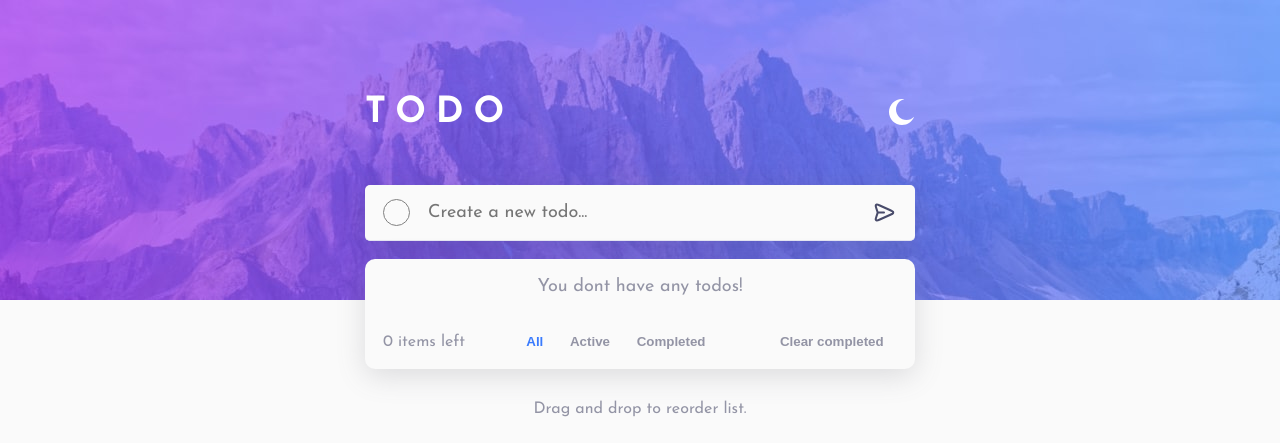
Test: Todo Actions › should add new ToDo by clicking button
This screenshot has width=1280, height=443.
Type "Write test in cypress" into the field with test id "todo-input" at (641, 213), box [428,185,854,240]
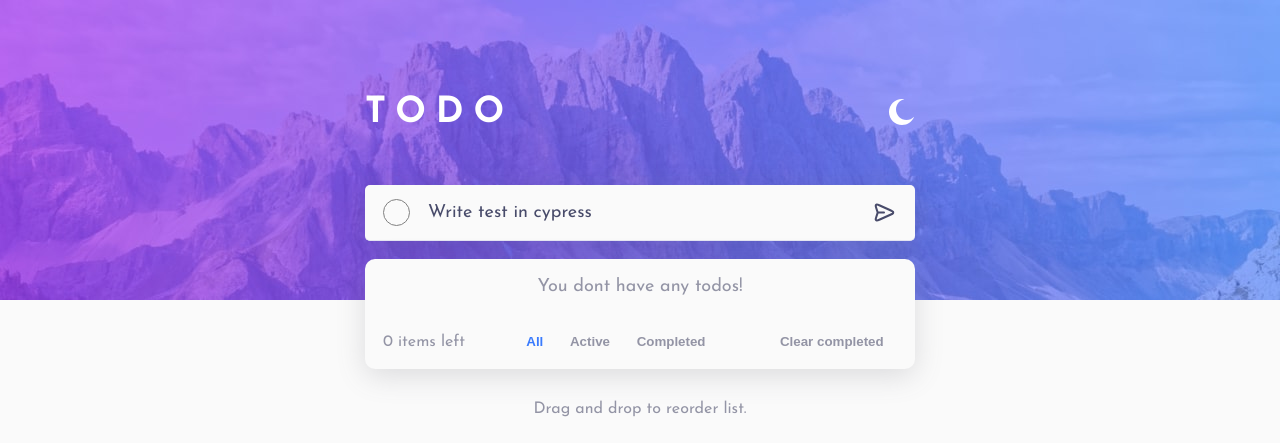
Click the picture with test id "add-todo-svg" at (885, 213), box [854,200,915,225]
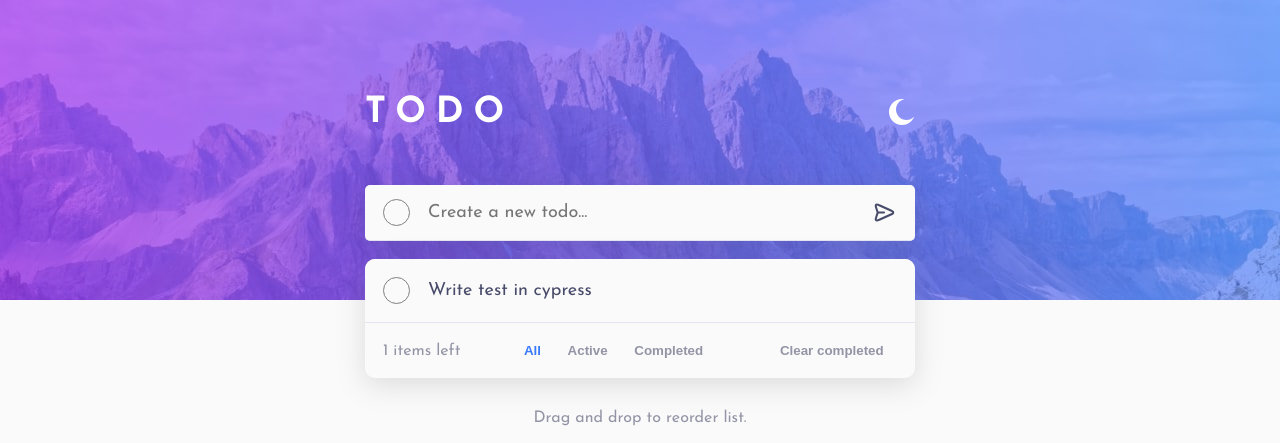
Now the text "Write test in cypress" is shown, box [428,281,592,300]
